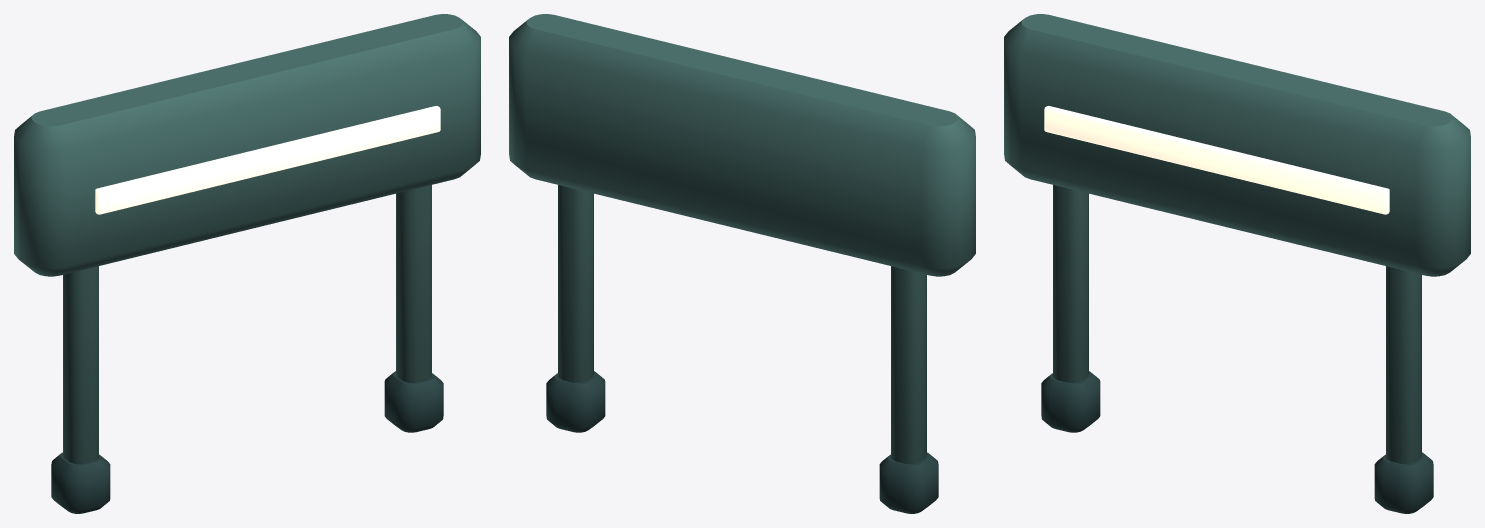
Rendered from vip_park_works_4.glb.
3 renders of one model, left to right at view 1: azimuth 30°, elevation 25°; view 2: azimuth 150°, elevation 25°; view 3: azimuth 330°, elevation 25°, orthographic.
Visible parts, largest first — view 1: VipParkWorks4; view 2: VipParkWorks4; view 3: VipParkWorks4.
Part boxes in pixels (x1,y1,x2,y2): VipParkWorks4: (14,14,480,513); VipParkWorks4: (509,14,975,513); VipParkWorks4: (1004,14,1470,513).
Bounding box in the file's own units: 1.78 × 1.48 × 0.277.
